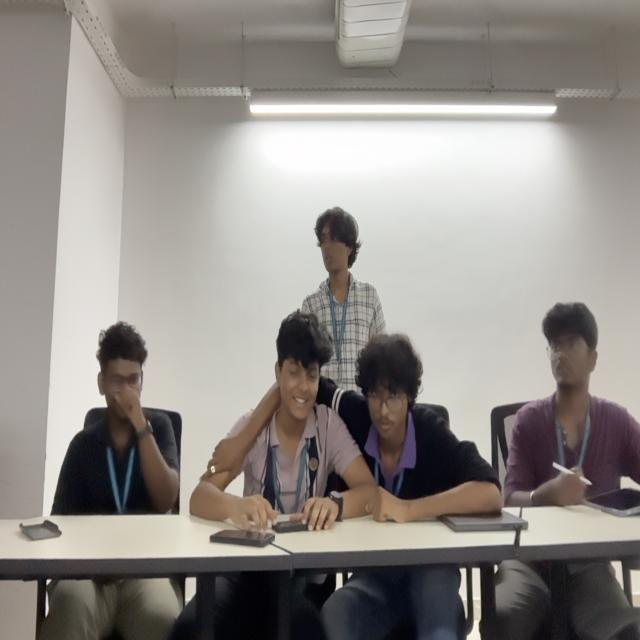Isolated: (508, 301, 640, 505)
socializing: (51, 205, 502, 523)
